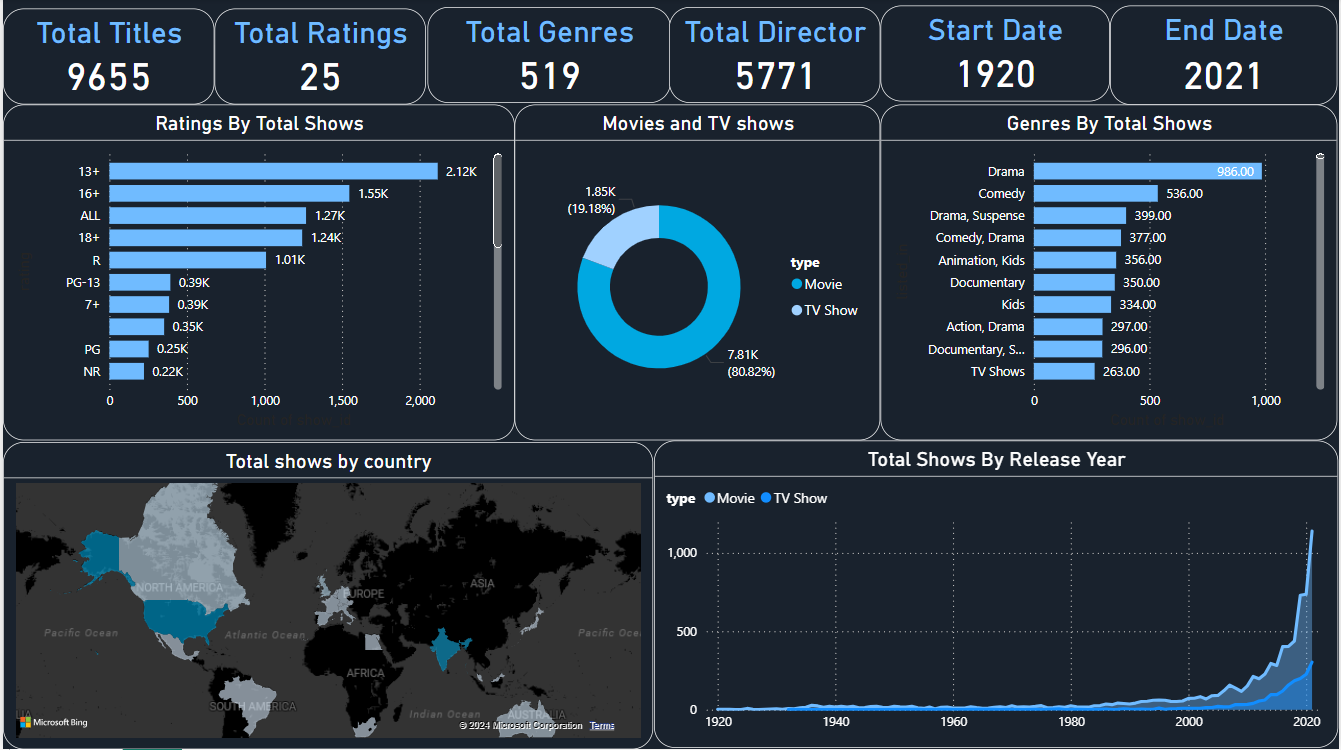

What the dashboard file says about the page in this screenshot:
{"tool":"powerbi","page":{"name":"Page 1","canvas":[1280,720],"ordinal":0},"visuals":[{"type":"filledMap","title":"Total shows by country","fields":{"Category":["amazon_prime_titles.country"]},"box":[0,425.9,623.5,294.7],"z":0},{"type":"donutChart","title":"Movies and TV shows","fields":{"Category":["amazon_prime_titles.type"],"Y":["Count(amazon_prime_titles.show_id)"]},"box":[490.7,102.2,351,322],"z":1},{"type":"areaChart","title":"Total Shows By Release Year","fields":{"Category":["amazon_prime_titles.release_year"],"Y":["Count(amazon_prime_titles.show_id)"],"Series":["amazon_prime_titles.type"]},"box":[623.5,424.2,655.9,294.7],"z":2},{"type":"barChart","title":"Ratings By Total Shows","fields":{"Category":["amazon_prime_titles.rating"],"Y":["Count(amazon_prime_titles.show_id)"]},"box":[0,102.2,490.7,322],"z":3},{"type":"barChart","title":"Genres By Total Shows","fields":{"Y":["Count(amazon_prime_titles.show_id)"],"Category":["amazon_prime_titles.listed_in"]},"box":[841.6,102.2,437.8,322],"z":4},{"type":"card","title":"Total Titles","fields":{"Values":["Count(amazon_prime_titles.title)"]},"box":[0,10.2,202.7,92],"z":5},{"type":"card","title":"Total Ratings","fields":{"Values":["Count(amazon_prime_titles.rating)"]},"box":[202.7,10.2,202.7,92],"z":6},{"type":"card","title":"Total Genres","fields":{"Values":["Count(amazon_prime_titles.listed_in)"]},"box":[407.2,8.5,233.4,92],"z":7},{"type":"card","title":"Total Director","fields":{"Values":["Count(amazon_prime_titles.director)"]},"box":[638.9,8.5,202.7,92],"z":8},{"type":"card","title":"Start Date","fields":{"Values":["Min(amazon_prime_titles.release_year)"]},"box":[841.6,6.8,219.8,92],"z":9},{"type":"card","title":"End Date","fields":{"Values":["Max(amazon_prime_titles.release_year)"]},"box":[1061.4,6.8,218.1,95.4],"z":10}]}

Visuals, with their boxes in screenshot pixels (x1, y1, x2, y2), scaled from the page's 1280x720 canvas onto the 1341x750 screenshot:
"Total shows by country" filledMap: rect(0, 444, 653, 749)
"Movies and TV shows" donutChart: rect(514, 106, 882, 442)
"Total Shows By Release Year" areaChart: rect(653, 442, 1340, 749)
"Ratings By Total Shows" barChart: rect(0, 106, 514, 442)
"Genres By Total Shows" barChart: rect(882, 106, 1340, 442)
"Total Titles" card: rect(0, 11, 212, 106)
"Total Ratings" card: rect(212, 11, 425, 106)
"Total Genres" card: rect(427, 9, 671, 105)
"Total Director" card: rect(669, 9, 882, 105)
"Start Date" card: rect(882, 7, 1112, 103)
"End Date" card: rect(1112, 7, 1340, 106)
